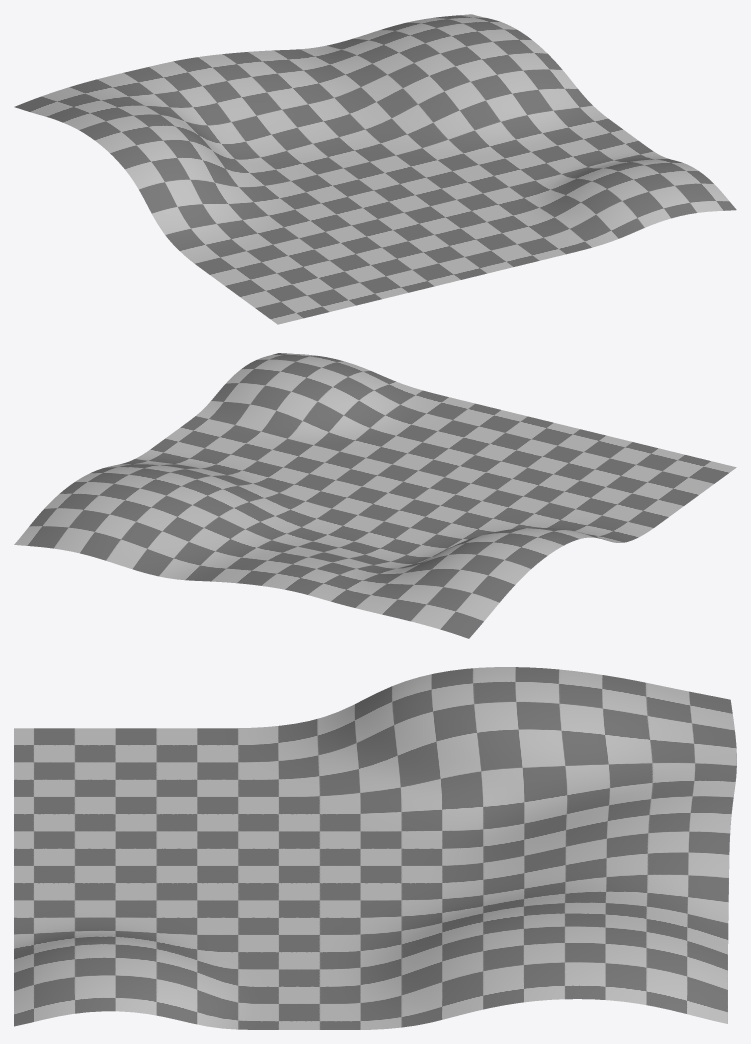
Rendered from Def.glb.
The picture shows the model from 3 angles, top to bottom: view 1: azimuth 30°, elevation 25°; view 2: azimuth 150°, elevation 25°; view 3: azimuth 270°, elevation 25°; orthographic projection. The views are drawn at different scales.
Visible parts, largest first — view 1: Cube; view 2: Cube; view 3: Cube.
Boxes of the visible parts, bbox=[...] form: Cube: bbox=[14, 14, 736, 324]; Cube: bbox=[14, 353, 736, 638]; Cube: bbox=[14, 667, 736, 1029].
Bounding box in the file's own units: 41.2 × 4.21 × 41.72.
1 material, 1 textured.
